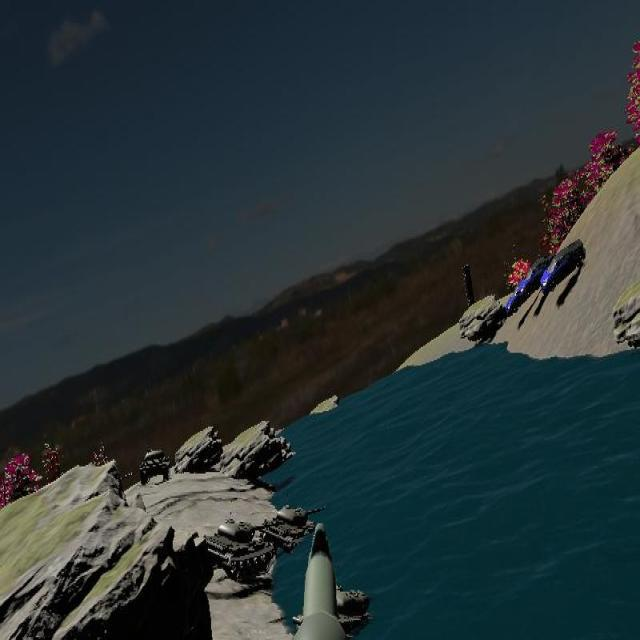Tank: (204, 513, 274, 582), (264, 502, 326, 553)
car: (541, 238, 586, 296), (517, 254, 551, 303), (505, 280, 527, 317), (541, 252, 558, 298)
